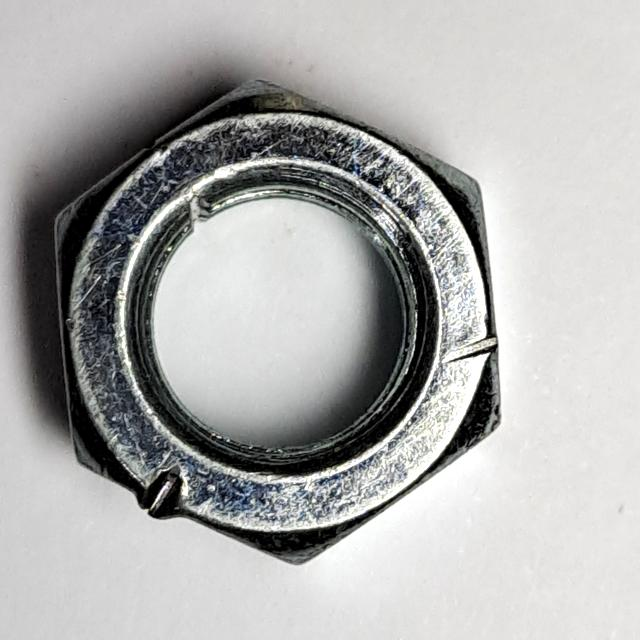Scratches: (42, 66, 516, 587)
